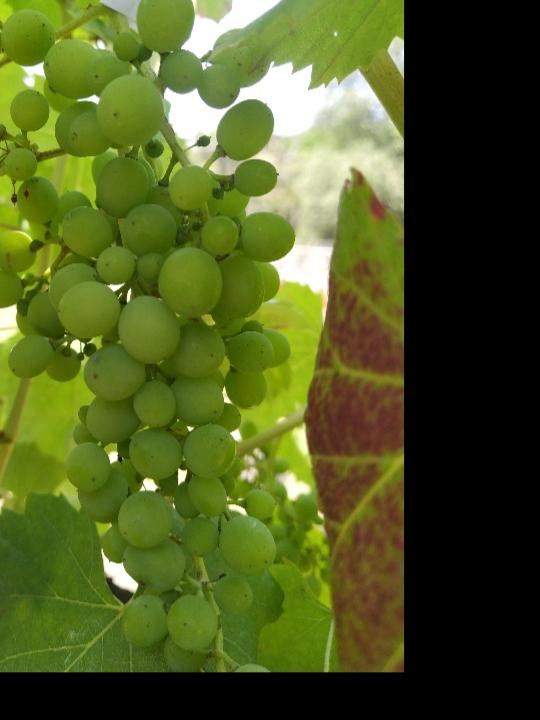grape: (0, 0, 296, 669)
